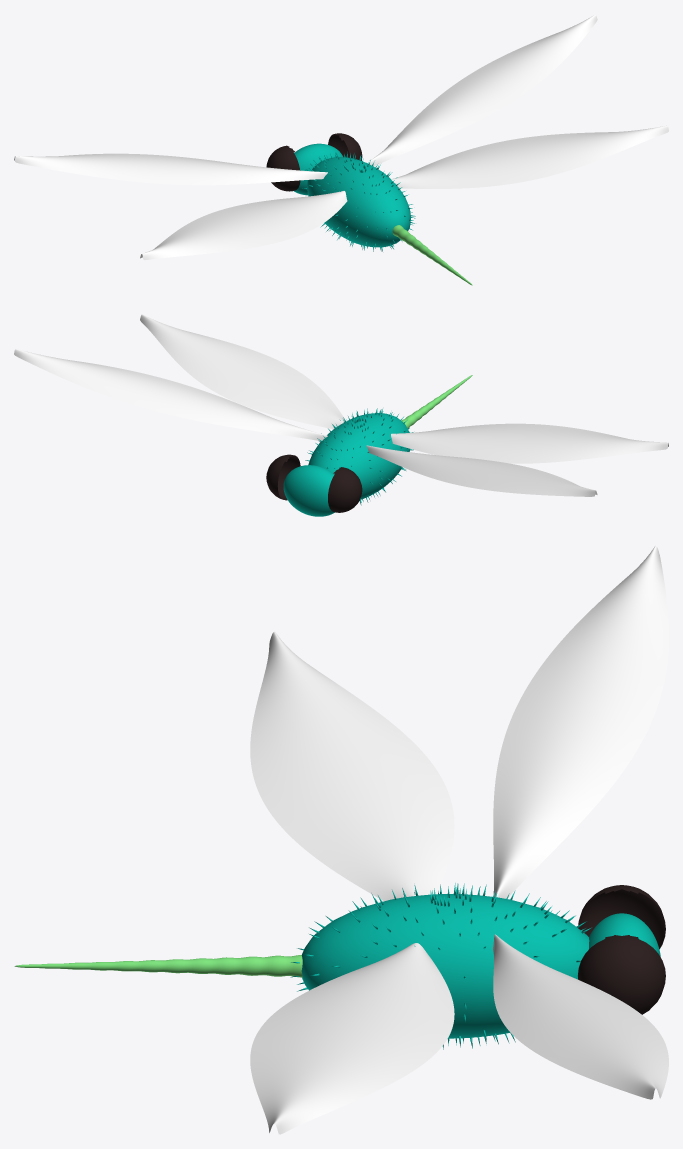
3 views of the same model, one above another, from view 1: azimuth 30°, elevation 25°; view 2: azimuth 150°, elevation 25°; view 3: azimuth 270°, elevation 25° (orthographic). The views are drawn at different scales.
Parts seen in each view (by area): view 1: hindwing, forewing, hindwing.001, thorax, forewing.001, head, compound_eye.001, abdomen, compound_eye; view 2: hindwing, hindwing.001, forewing, forewing.001, thorax, head, compound_eye.001, compound_eye, abdomen; view 3: hindwing.001, forewing.001, hindwing, thorax, forewing, compound_eye, abdomen, compound_eye.001, head.
Part boxes in pixels (x1=…): hindwing: x1=391, y1=125, x2=668, y2=188; forewing: x1=367, y1=14, x2=597, y2=166; hindwing.001: x1=140, y1=191, x2=347, y2=260; thorax: x1=302, y1=151, x2=415, y2=251; forewing.001: x1=14, y1=153, x2=327, y2=185; head: x1=294, y1=143, x2=342, y2=195; compound_eye.001: x1=266, y1=145, x2=300, y2=191; abdomen: x1=392, y1=225, x2=472, y2=285; compound_eye: x1=328, y1=133, x2=362, y2=160; hindwing: x1=140, y1=314, x2=346, y2=429; hindwing.001: x1=391, y1=423, x2=668, y2=463; forewing: x1=14, y1=349, x2=327, y2=440; forewing.001: x1=366, y1=445, x2=597, y2=496; thorax: x1=305, y1=408, x2=413, y2=507; head: x1=283, y1=465, x2=334, y2=516; compound_eye.001: x1=328, y1=467, x2=362, y2=512; compound_eye: x1=266, y1=454, x2=300, y2=500; abdomen: x1=401, y1=375, x2=472, y2=428; hindwing.001: x1=250, y1=631, x2=454, y2=901; forewing.001: x1=493, y1=545, x2=668, y2=898; hindwing: x1=250, y1=943, x2=454, y2=1134; thorax: x1=290, y1=883, x2=591, y2=1049; forewing: x1=493, y1=934, x2=668, y2=1099; compound_eye: x1=578, y1=935, x2=665, y2=1014; abdomen: x1=14, y1=955, x2=302, y2=977; compound_eye.001: x1=578, y1=885, x2=665, y2=949; head: x1=589, y1=913, x2=660, y2=956.
Bounding box in the file's own units: 10.24 × 1.97 × 5.2.
